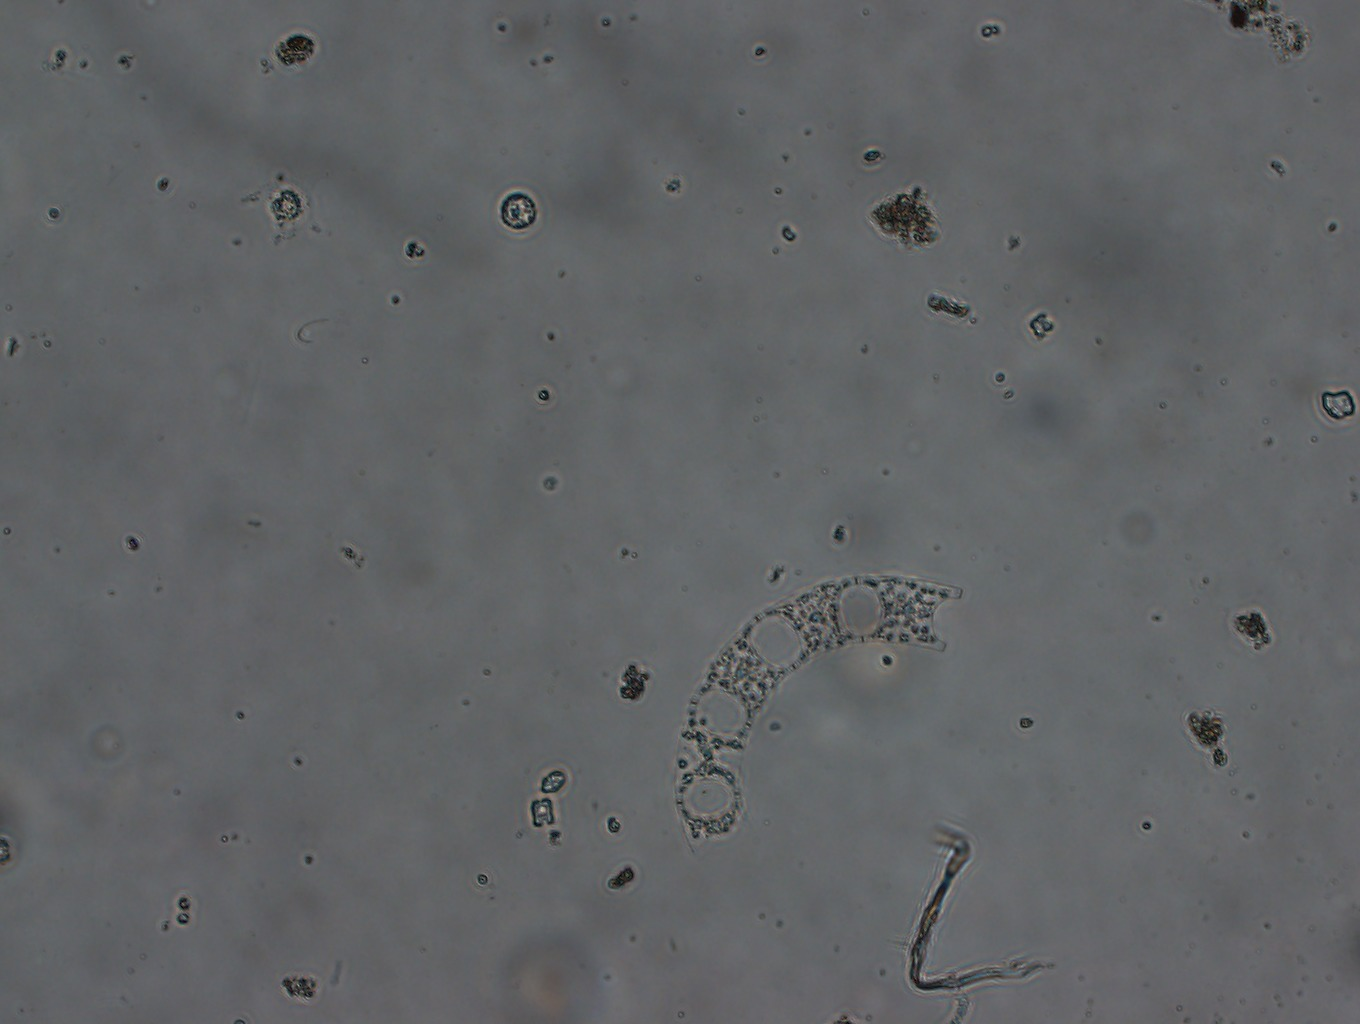eucampia: (665, 575, 973, 862)
